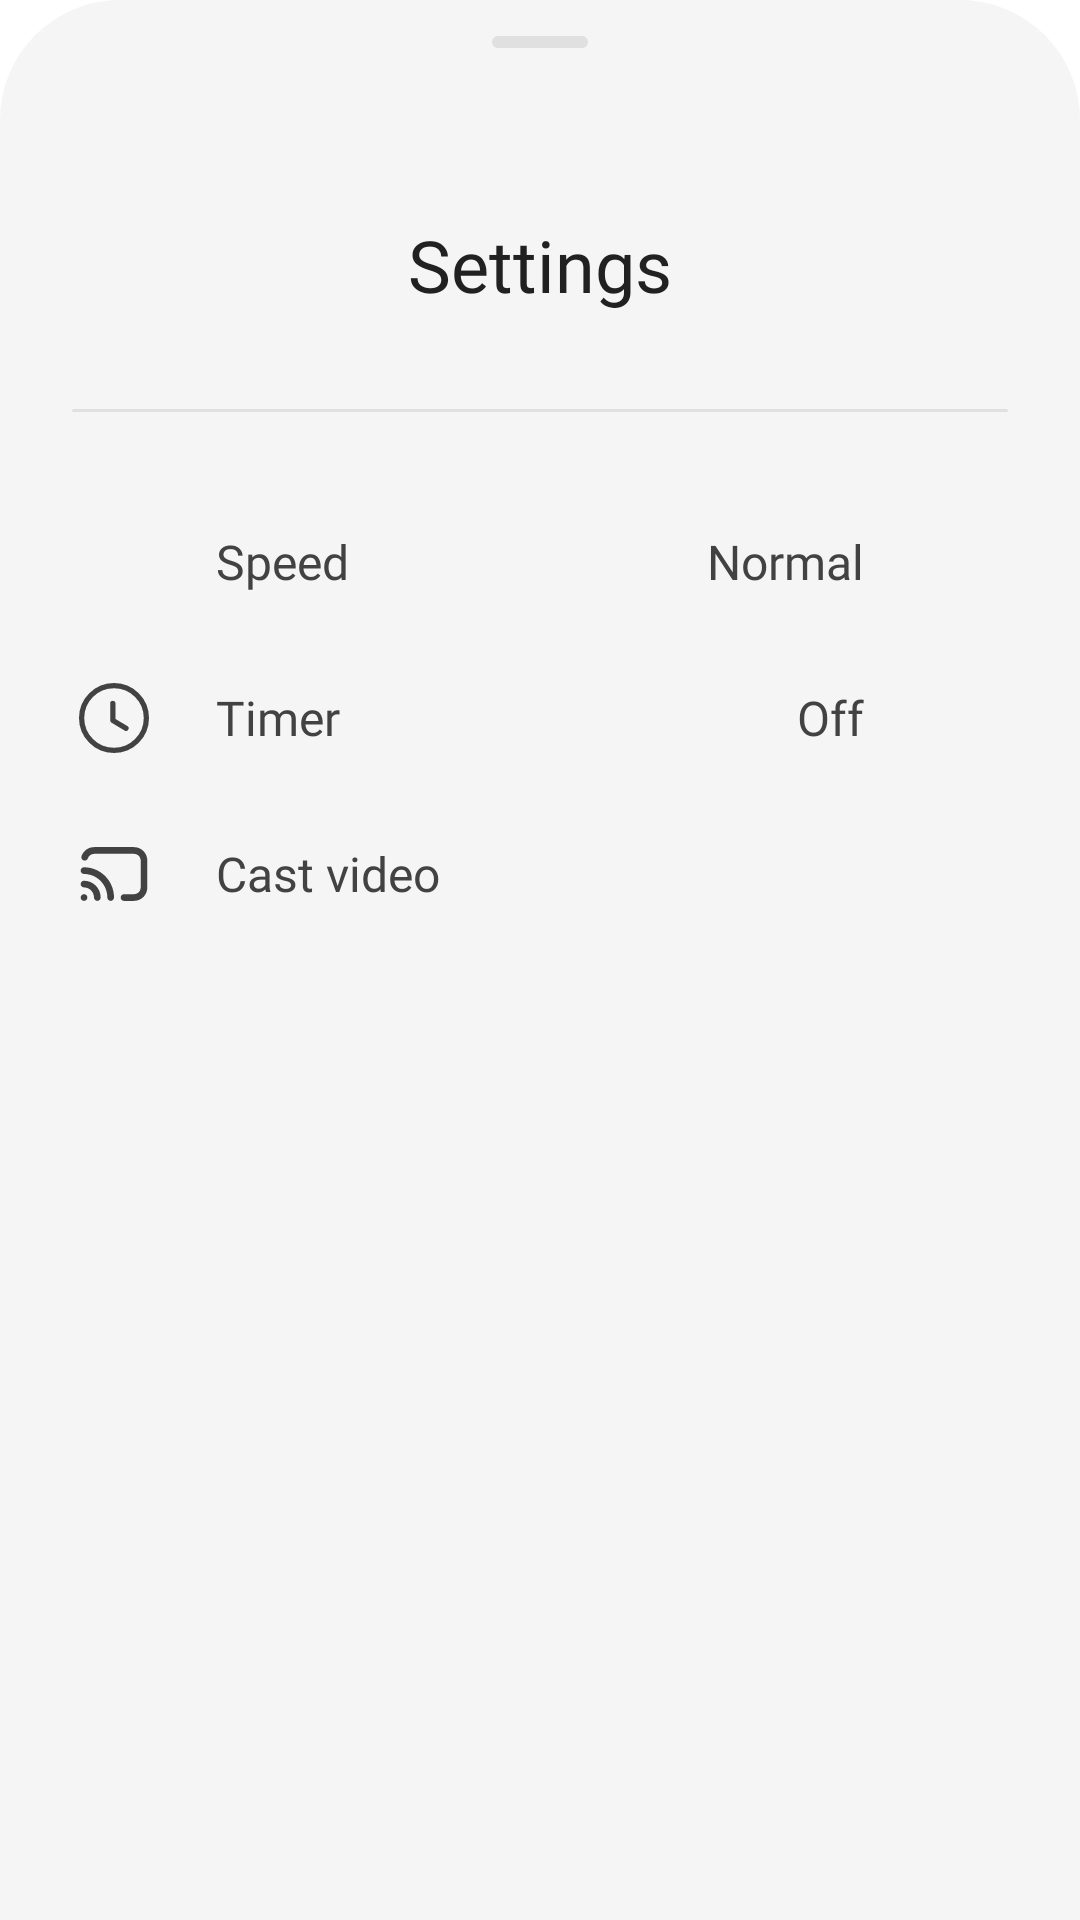

Icon click points for this 1080 x 1920 phone screenshot, format point (x, y):
time circle: point (114, 718)
